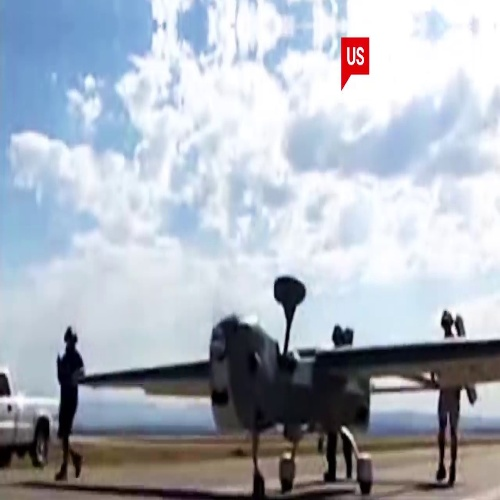uav: (89, 277, 500, 497)
